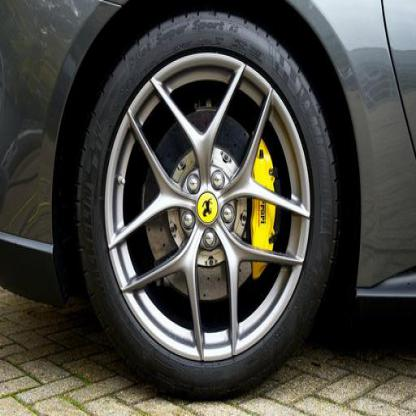Tire: (74, 12, 339, 401)
